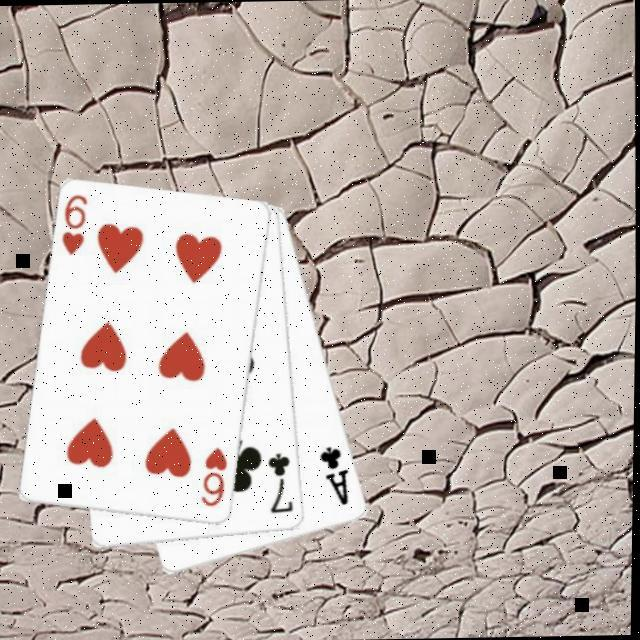6H: (200, 444, 234, 512), (60, 193, 94, 260)
7C: (268, 452, 300, 518)
AC: (320, 444, 356, 510)
